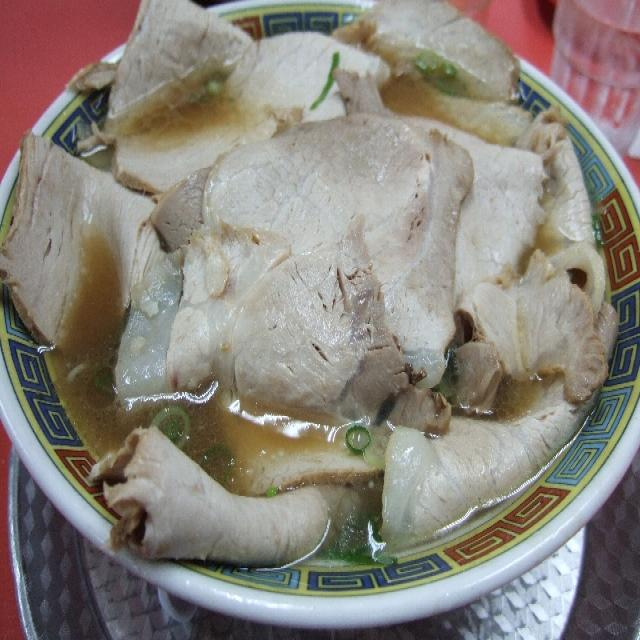面条主食: (28, 55, 597, 576)
